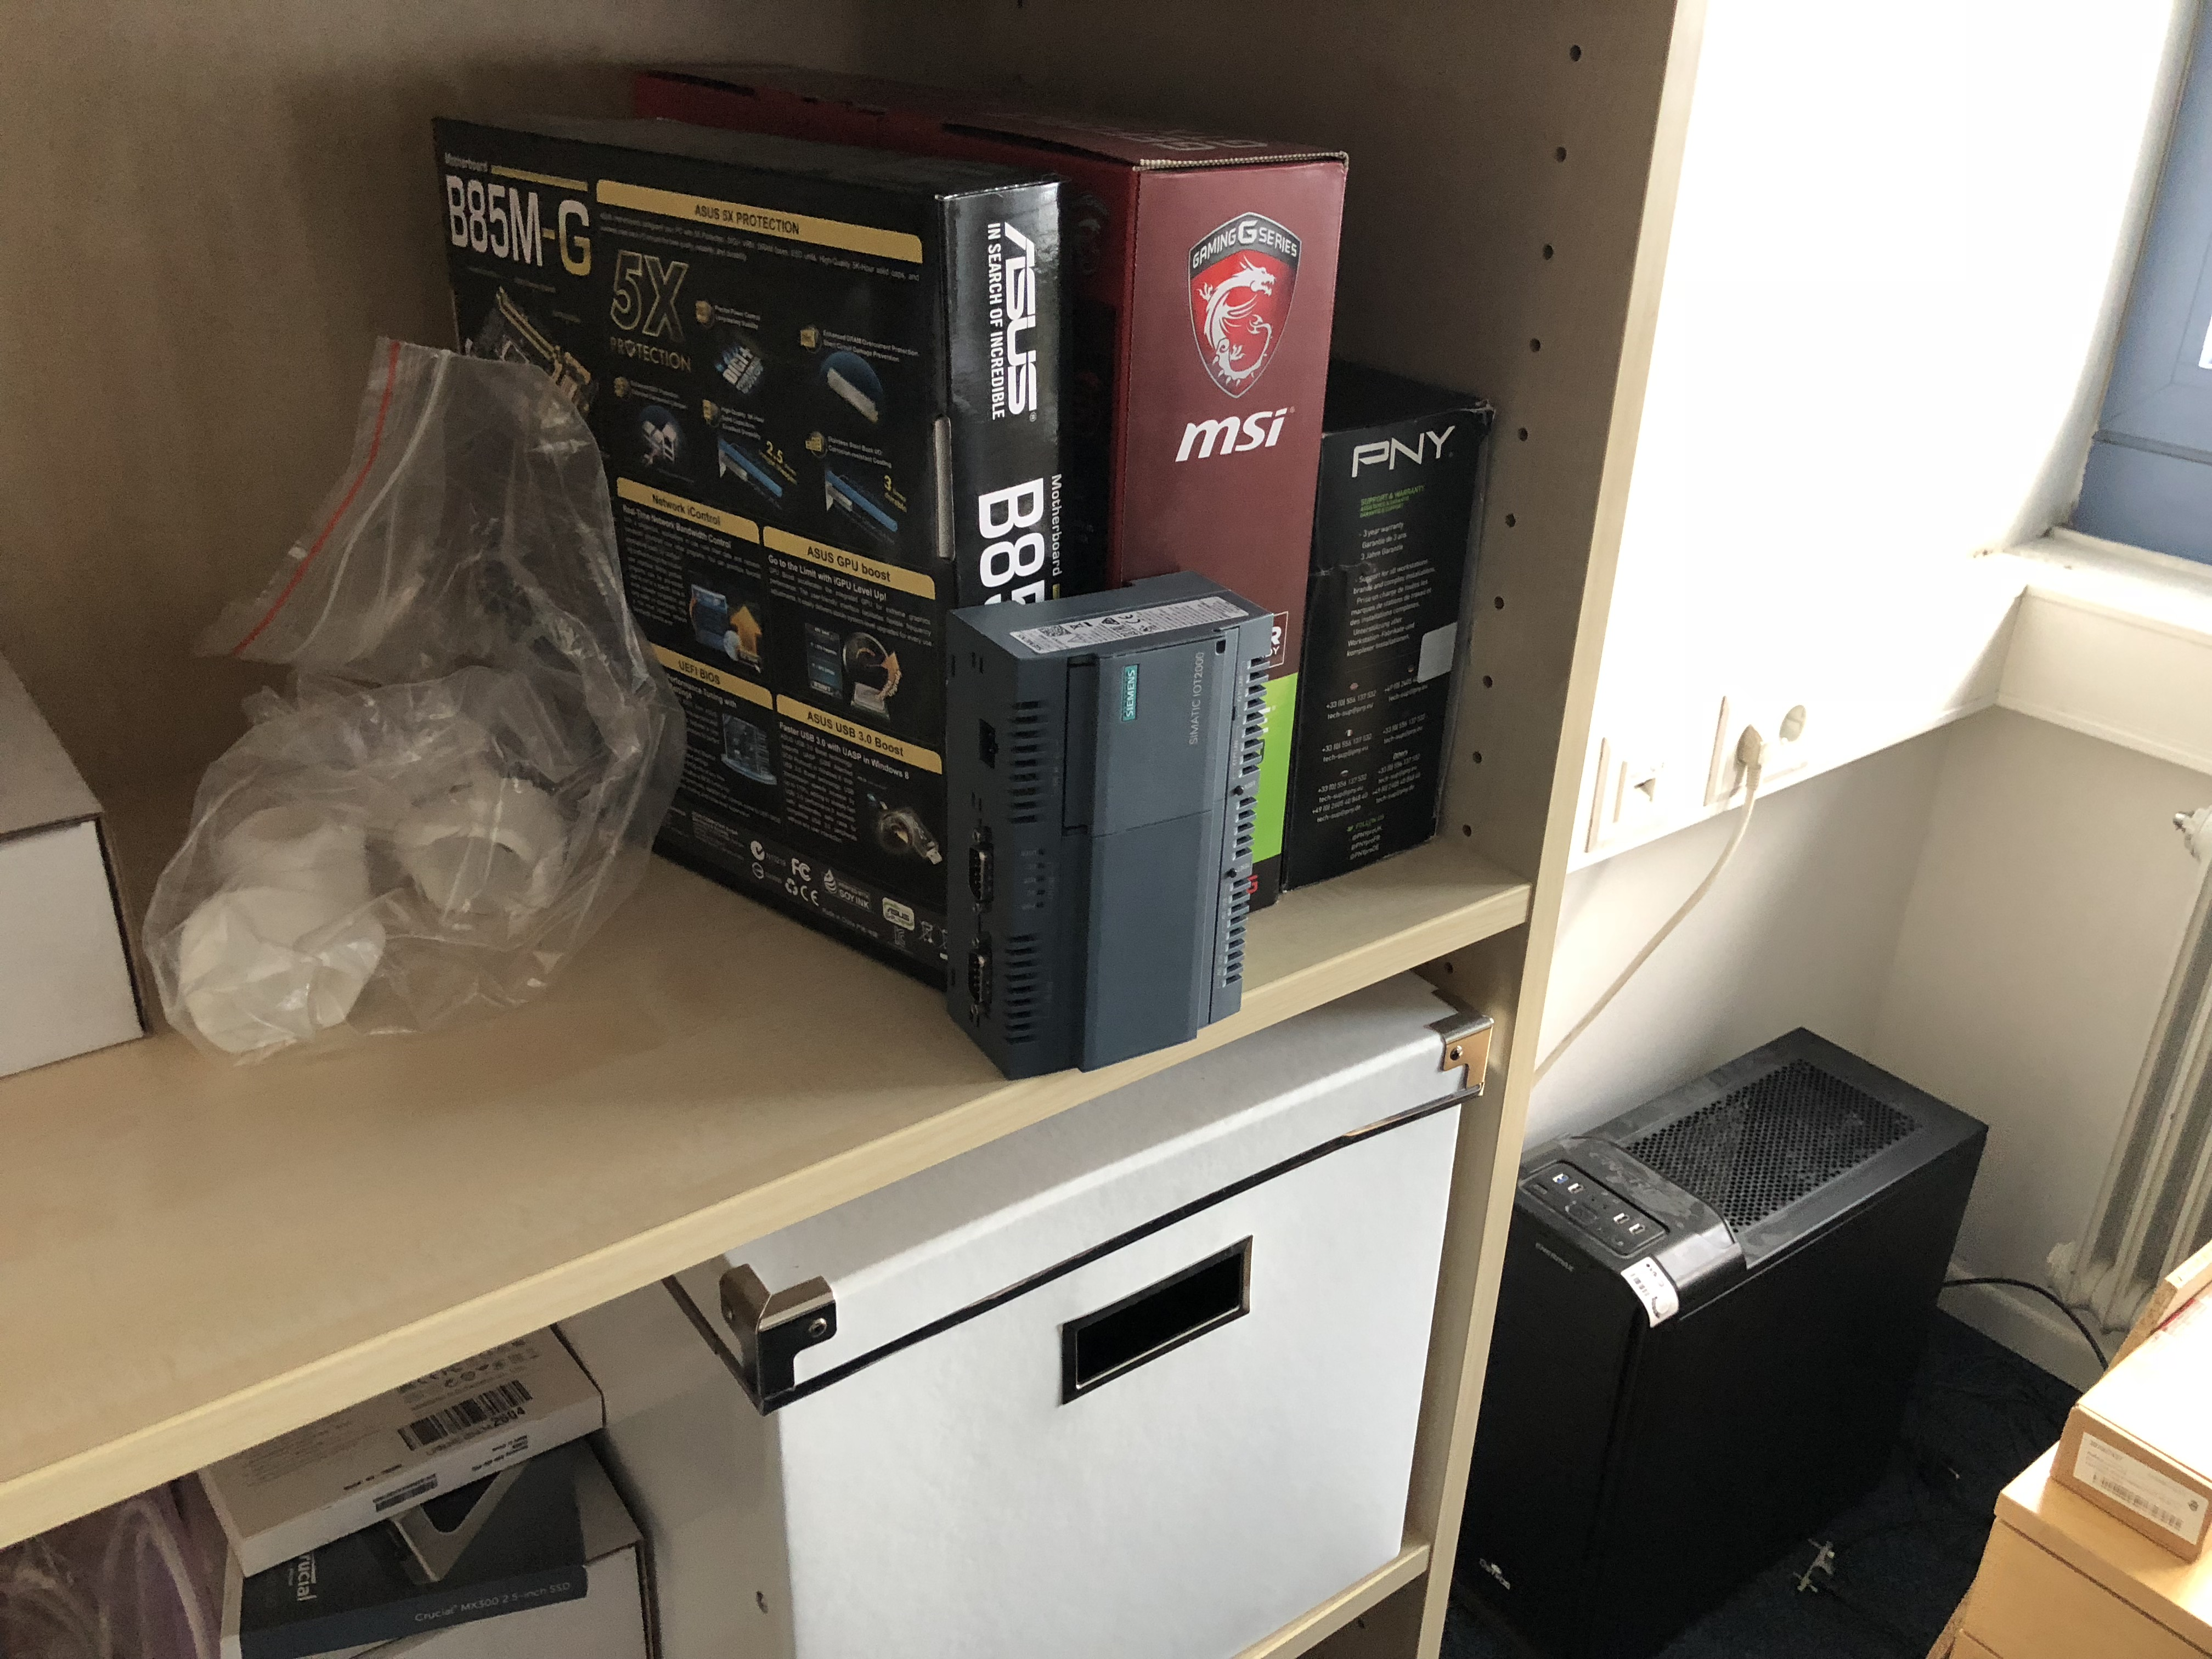device: (946, 570, 1275, 1080)
